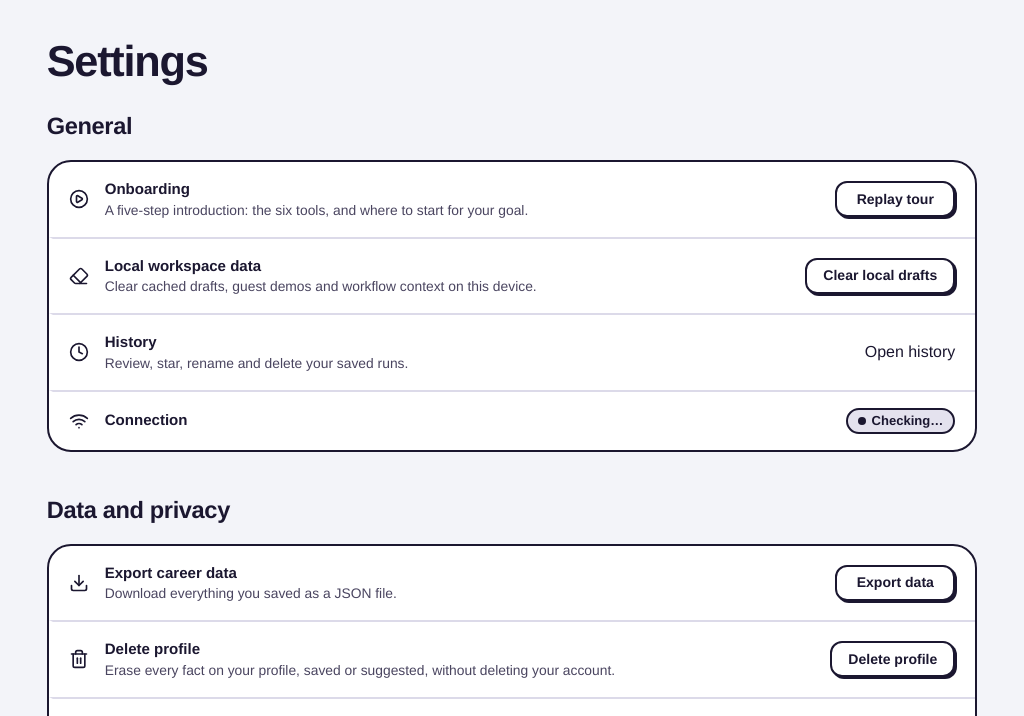
Test case: Settings privacy controls › says what failed in plain words when the erasure error carries no message
Click the button "Delete profile". click: [893, 659]
box: [830,641,955,677]
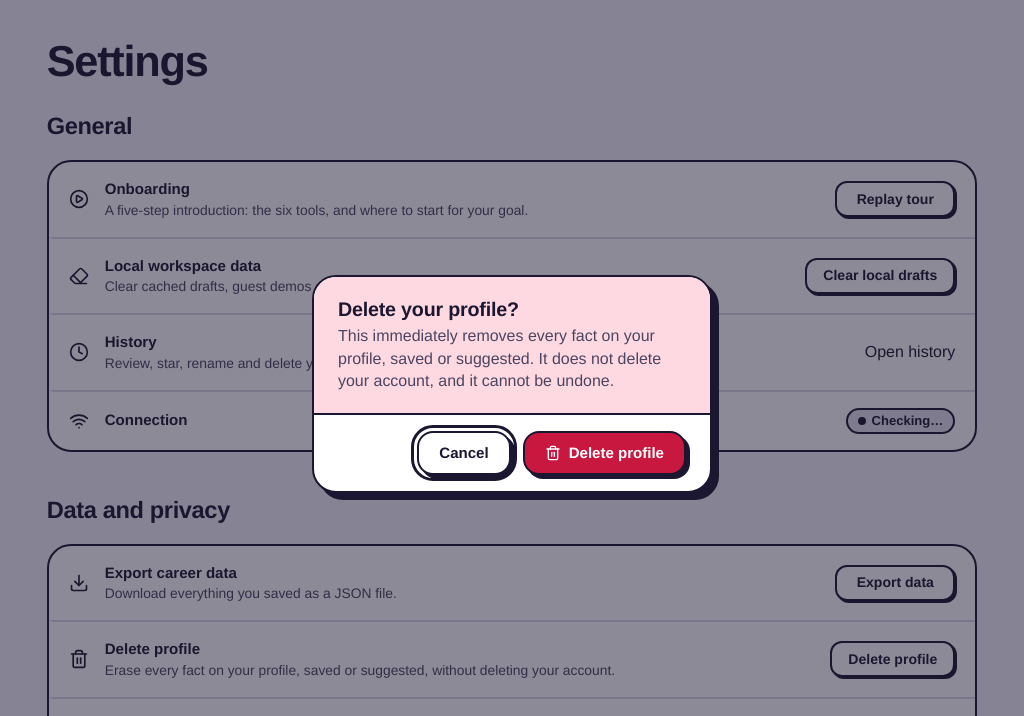
Click the button "Delete profile". click: [604, 453]
box: [523,431,686,475]
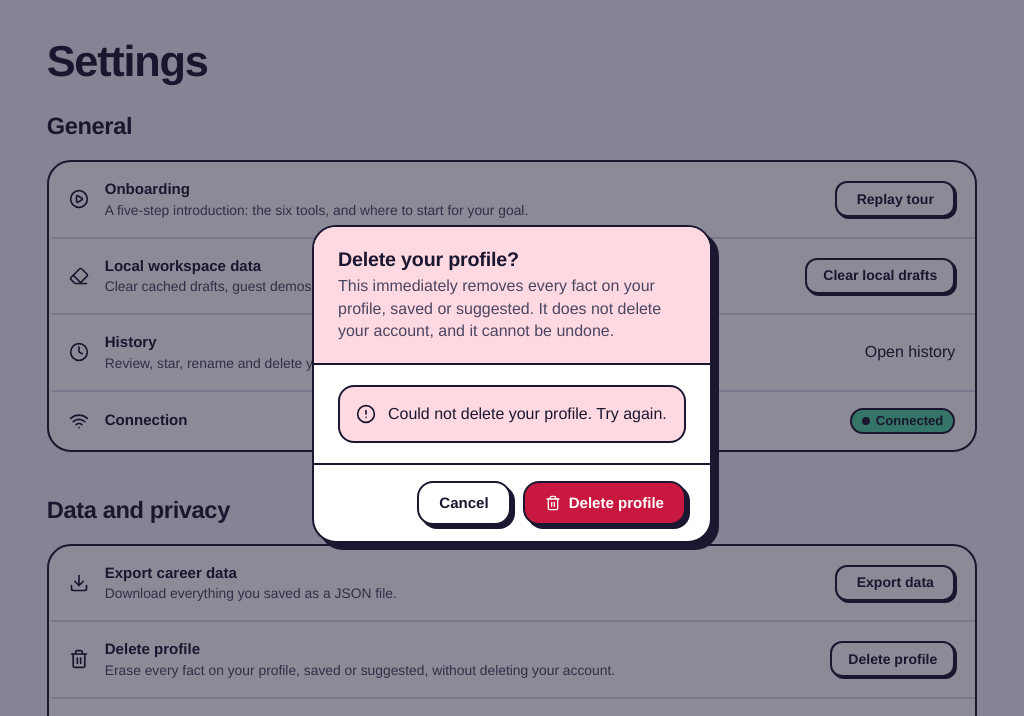
Now the message reads "Could not delete your profile. Try again.", box [388,404,667,424]
